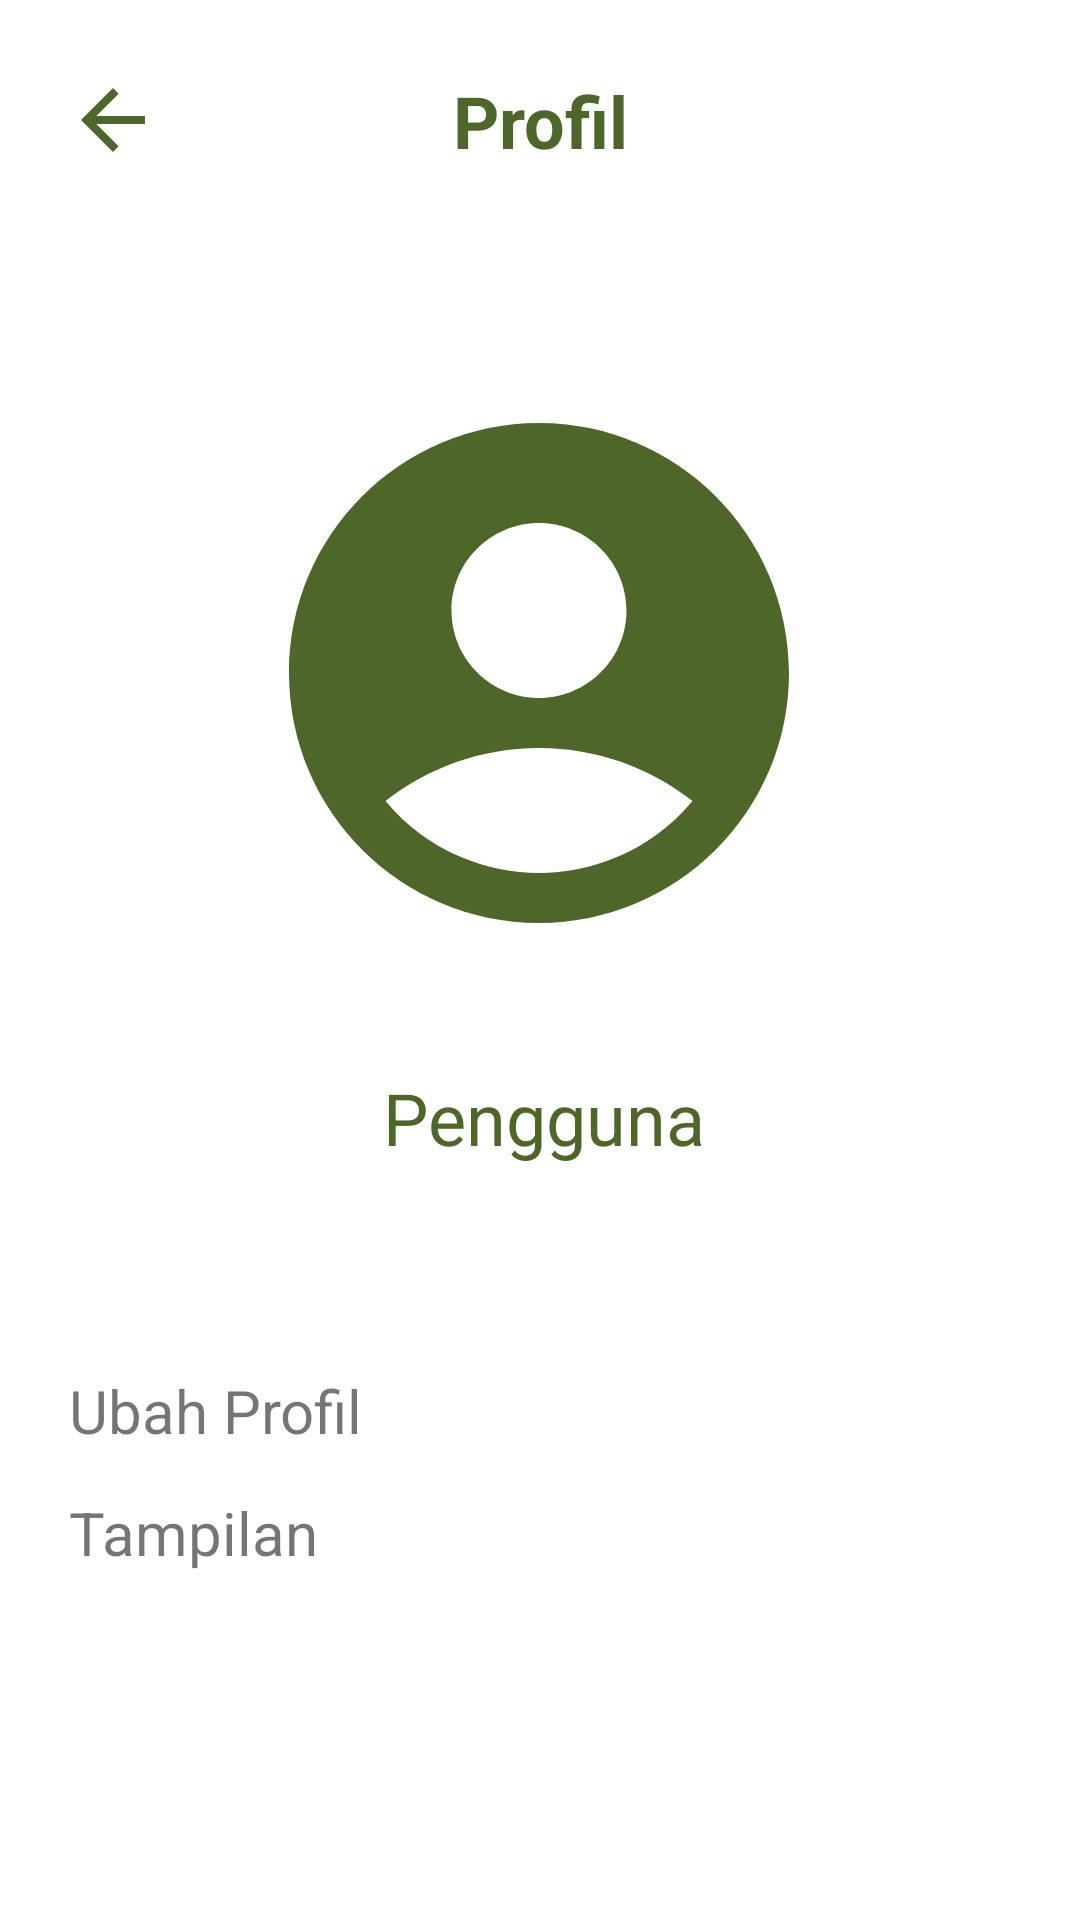

Where to tap for icons on this 1080*1920 app screen, as [x,y]:
Back: [113,120]
